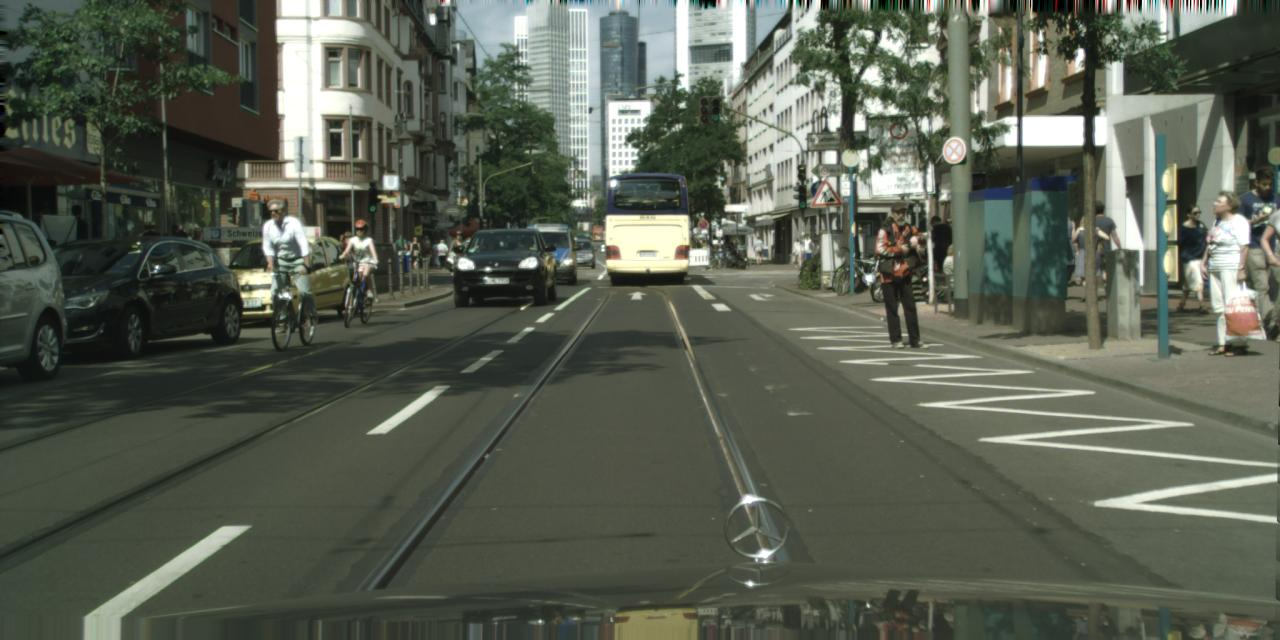ped: (1190, 190, 1258, 356), (872, 201, 932, 348), (1228, 167, 1278, 330), (260, 198, 311, 324), (1171, 203, 1216, 311), (56, 204, 98, 310), (1080, 199, 1119, 297), (1070, 214, 1105, 300), (343, 218, 378, 302), (922, 214, 956, 296), (1049, 212, 1080, 287), (936, 217, 965, 290), (334, 231, 362, 301), (136, 220, 164, 290), (164, 223, 192, 292), (185, 228, 213, 296), (448, 230, 467, 278), (852, 224, 870, 269), (800, 233, 814, 268), (421, 235, 434, 266), (408, 236, 421, 266), (395, 234, 407, 265), (792, 237, 804, 266), (436, 239, 448, 268), (752, 237, 764, 264), (431, 240, 441, 266), (699, 240, 707, 260), (692, 240, 701, 248)
